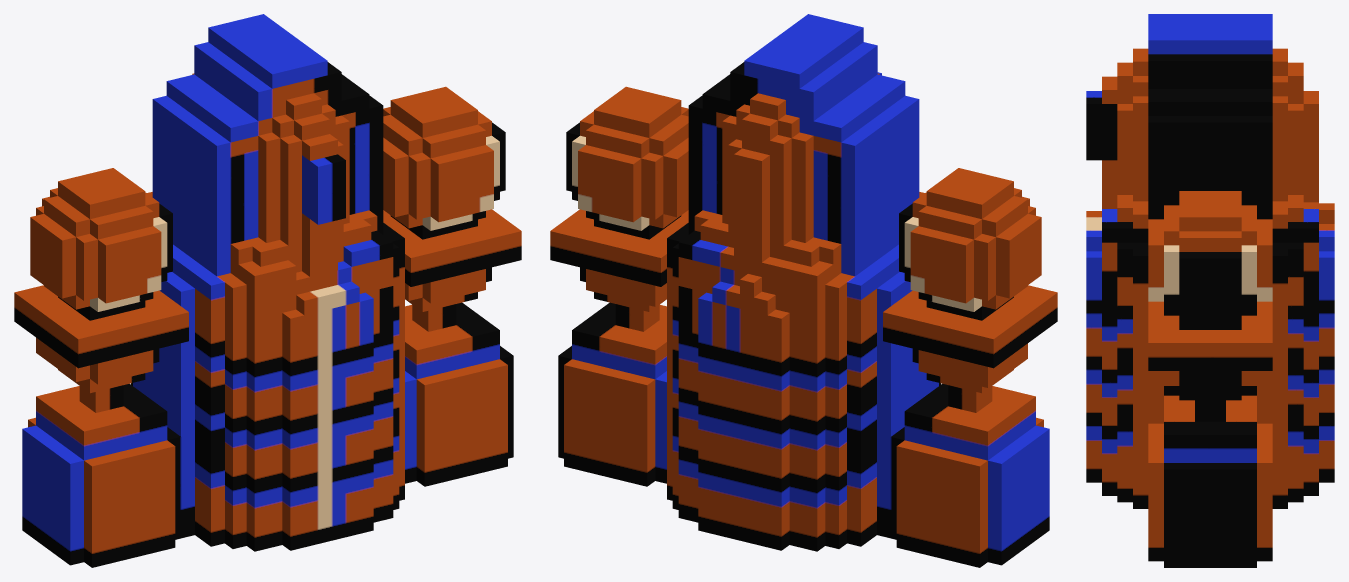
Rendered from TempleOrnamentRed.obj.
3 views of the same model, side by side, from view 1: azimuth 30°, elevation 25°; view 2: azimuth 150°, elevation 25°; view 3: azimuth 270°, elevation 25° (orthographic). The views are drawn at different scales.
Parts seen in each view (by area): view 1: Matrix; view 2: Matrix; view 3: Matrix.
Boxes of the visible parts, x1,y1,x2,y2 form: Matrix: [14, 14, 521, 567]; Matrix: [550, 14, 1057, 567]; Matrix: [1086, 14, 1334, 567].
Bounding box in the file's own units: 3.2 × 3.1 × 1.6.
Materials: 1 (1 with a texture image).
